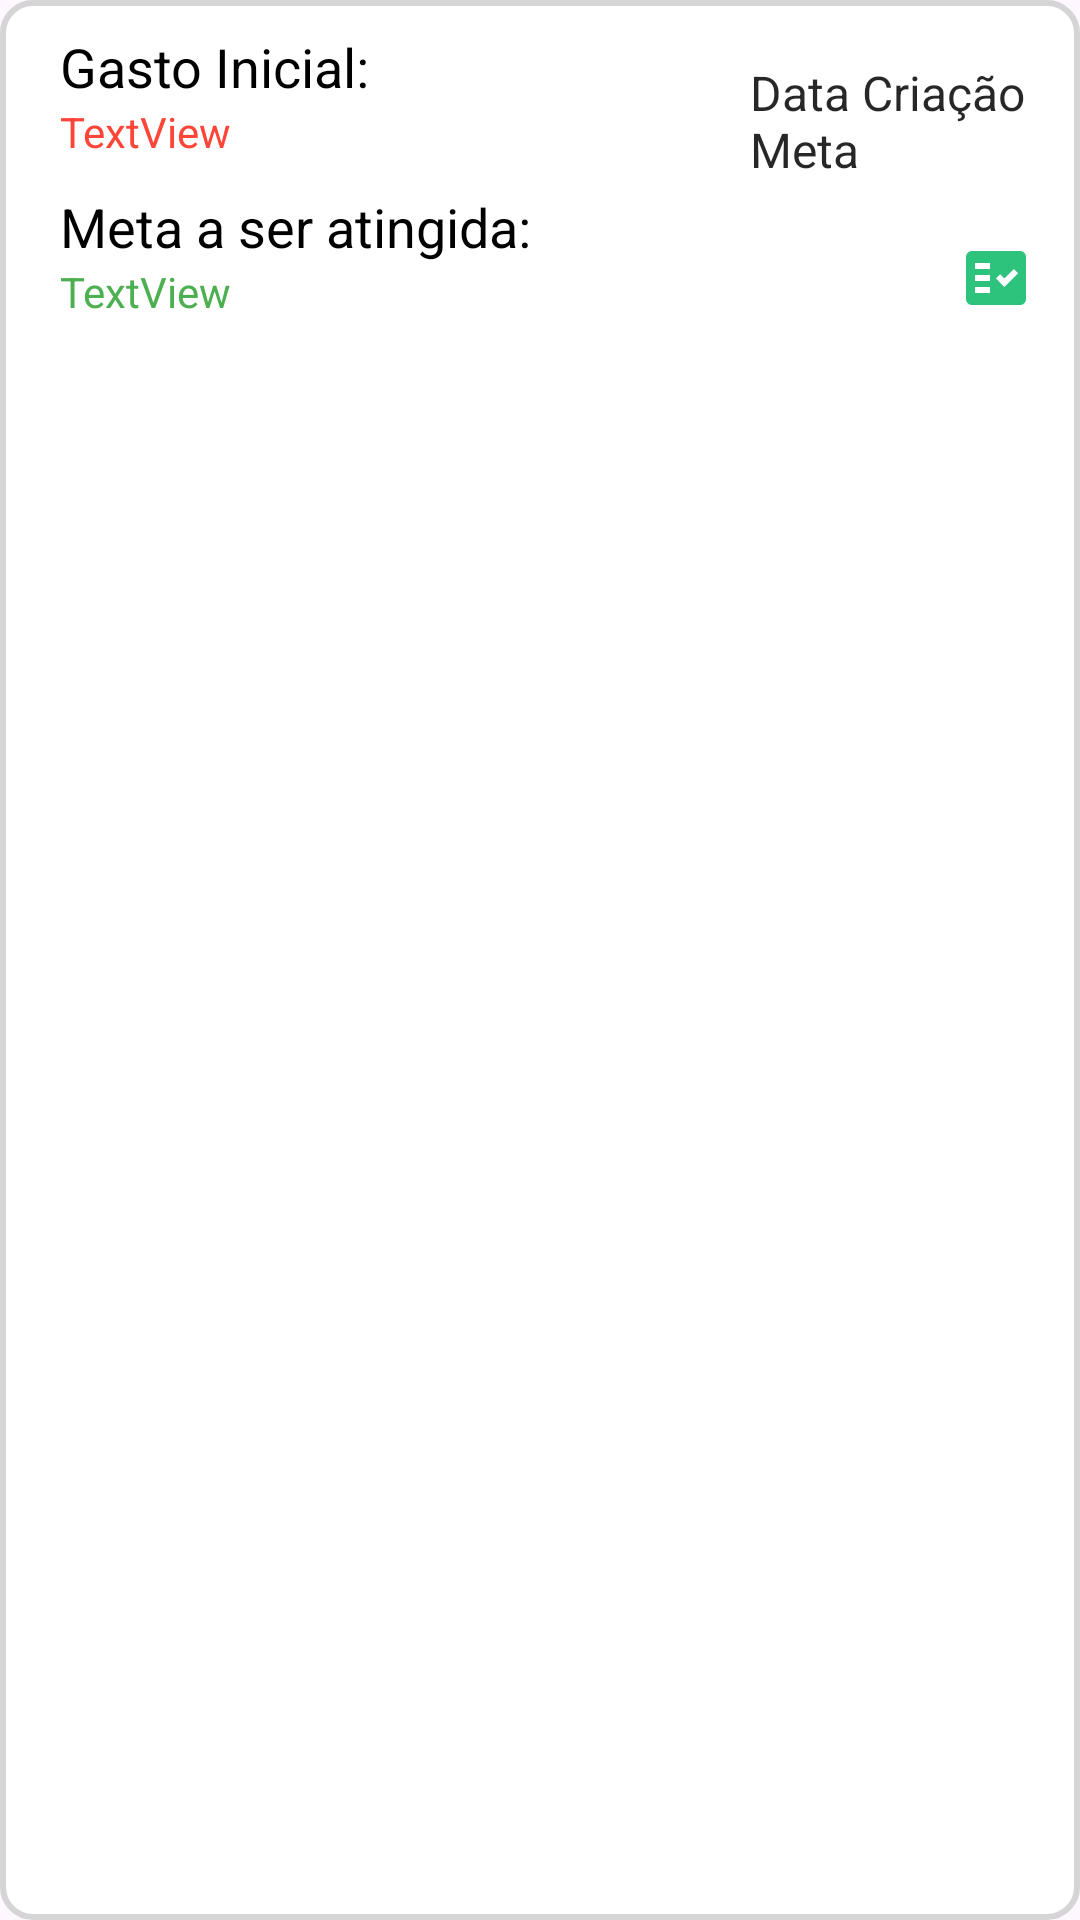

Icon click points for this 1080*1920 phone screenshot, format (x=x, y=y):
fact check: (x=996, y=278)
